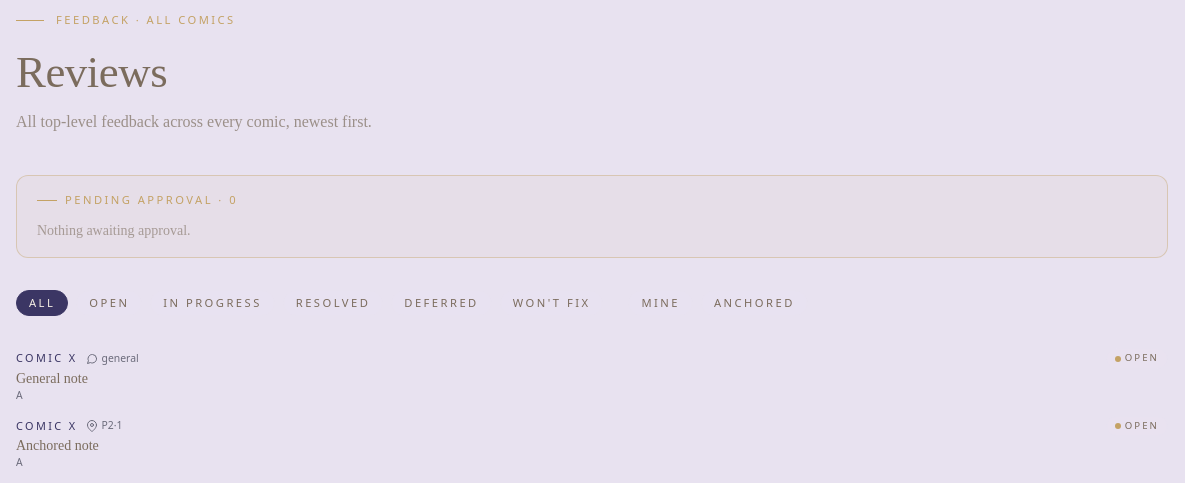
Test: ReviewsPageShell › Anchored toggle hides general (unanchored) roots
Click the button "Anchored".
click(754, 303)  # box [701,290,808,316]
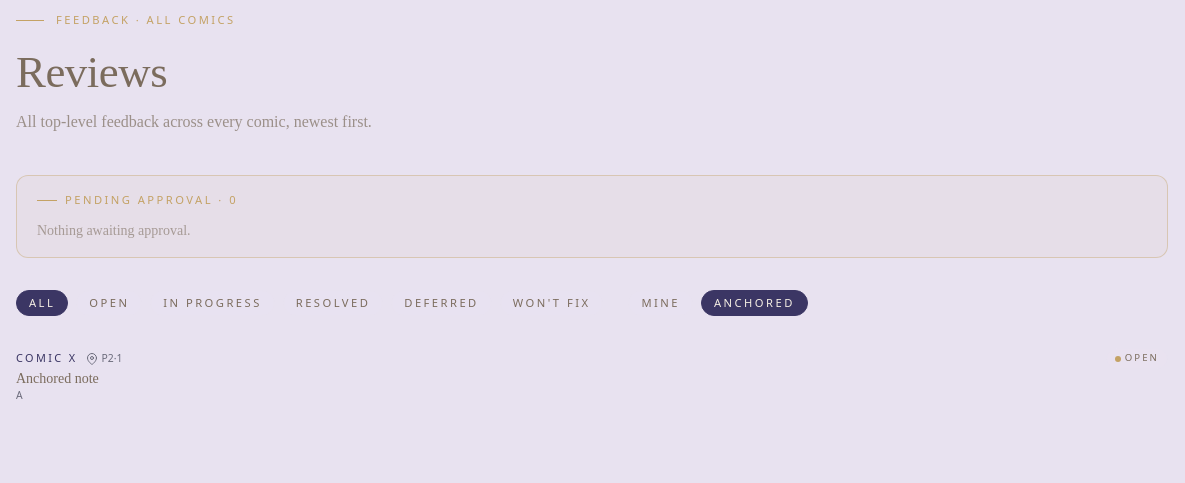
Expected: the text "Anchored note" is shown, [16,371,99,386]
Expected: the link "General note" is gone
